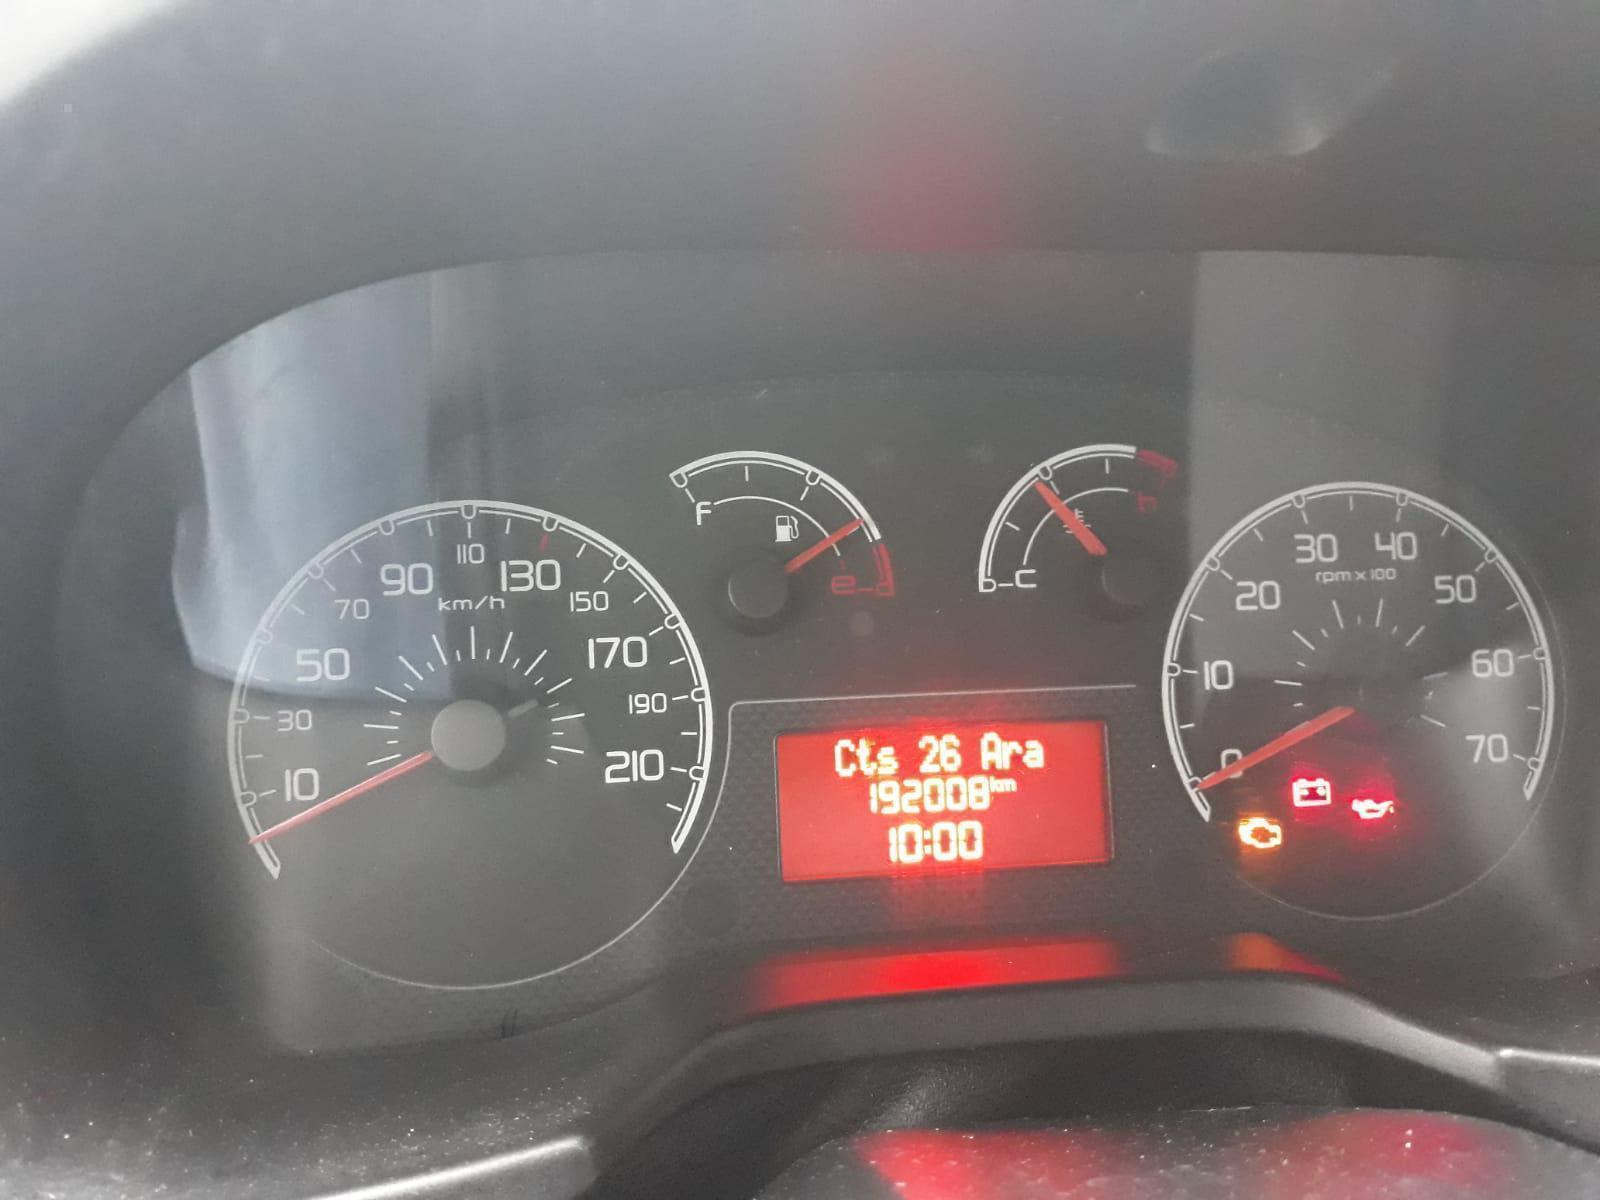0: (957, 818, 985, 861), (898, 822, 923, 863), (934, 821, 957, 862), (945, 775, 968, 813), (923, 776, 944, 813)
1: (886, 824, 898, 866), (866, 782, 879, 816)
2: (916, 734, 940, 776), (901, 776, 922, 816)
6: (941, 732, 963, 771)
8: (968, 773, 989, 811)
9: (879, 778, 900, 814)
X: (833, 737, 857, 779), (979, 730, 1002, 770), (877, 744, 900, 776), (857, 737, 876, 776), (1024, 739, 1047, 769), (1002, 739, 1023, 768), (989, 773, 1002, 792), (923, 828, 932, 855), (1000, 776, 1015, 792)
odometer: (769, 715, 1121, 882)
